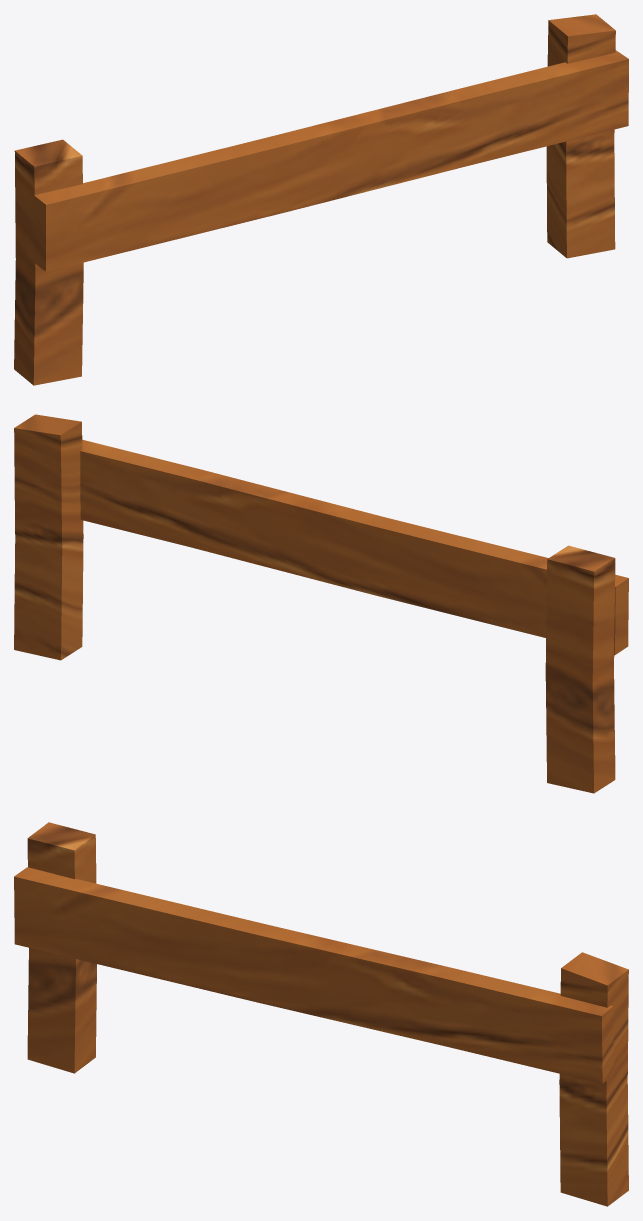
File: Fence01.fbx
3 renders of one model, top to bottom at view 1: azimuth 30°, elevation 25°; view 2: azimuth 150°, elevation 25°; view 3: azimuth 330°, elevation 25°, orthographic.
Parts seen in each view (by area): view 1: Fence_01; view 2: Fence_01; view 3: Fence_01.
Part boxes in pixels (box(x1,y1,x2,y2)): Fence_01: box(14, 14, 628, 385); Fence_01: box(14, 414, 628, 793); Fence_01: box(14, 822, 628, 1206).
Bounding box in the file's own units: 2.74 × 1.01 × 0.2778.
